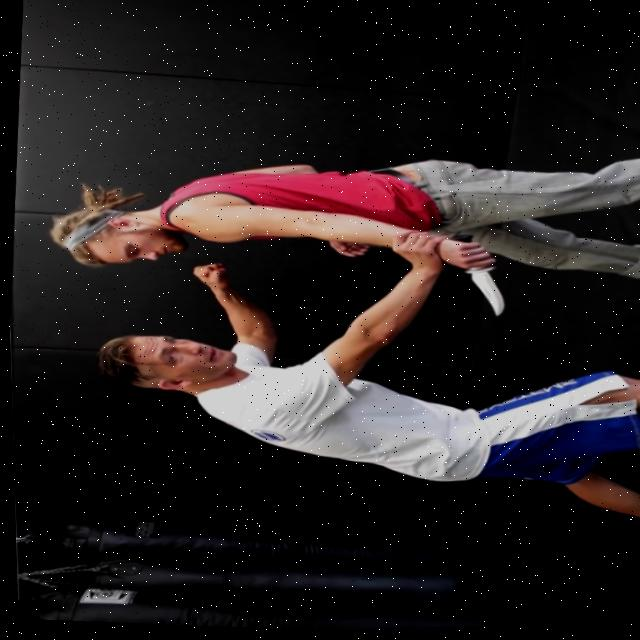knife: (463, 269, 506, 321)
